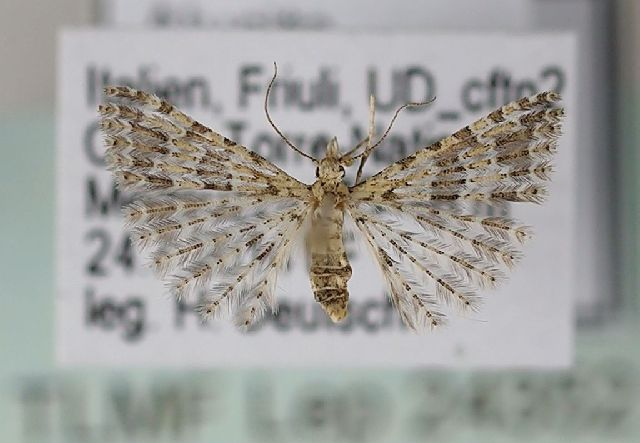Alucitidae: (88, 54, 565, 344)
moth: (86, 52, 563, 342)
